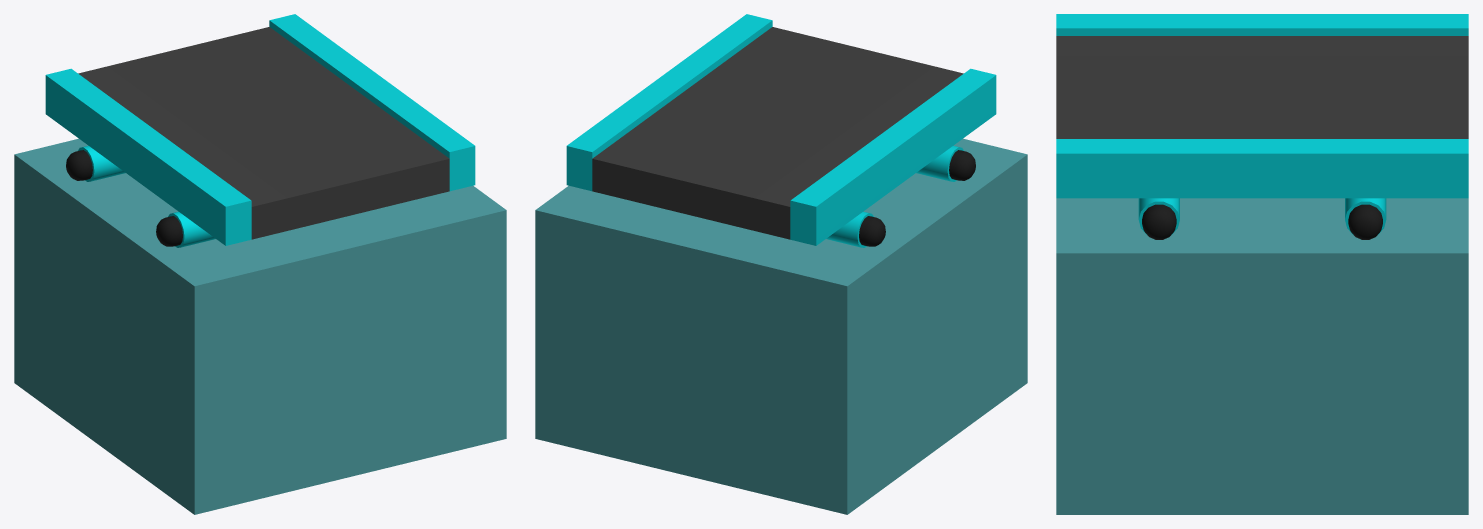
Rendered from conveyor_1.fbx.
3 views of the same model, side by side, from view 1: azimuth 30°, elevation 25°; view 2: azimuth 150°, elevation 25°; view 3: azimuth 270°, elevation 25° (orthographic). The views are drawn at different scales.
Parts seen in each view (by area): view 1: conveyor_1; view 2: conveyor_1; view 3: conveyor_1.
Part boxes in pixels (x1,y1,x2,y2): conveyor_1: (14, 14, 506, 514); conveyor_1: (535, 14, 1027, 514); conveyor_1: (1056, 14, 1468, 514).
Bounding box in the file's own units: 100 × 92 × 100.
